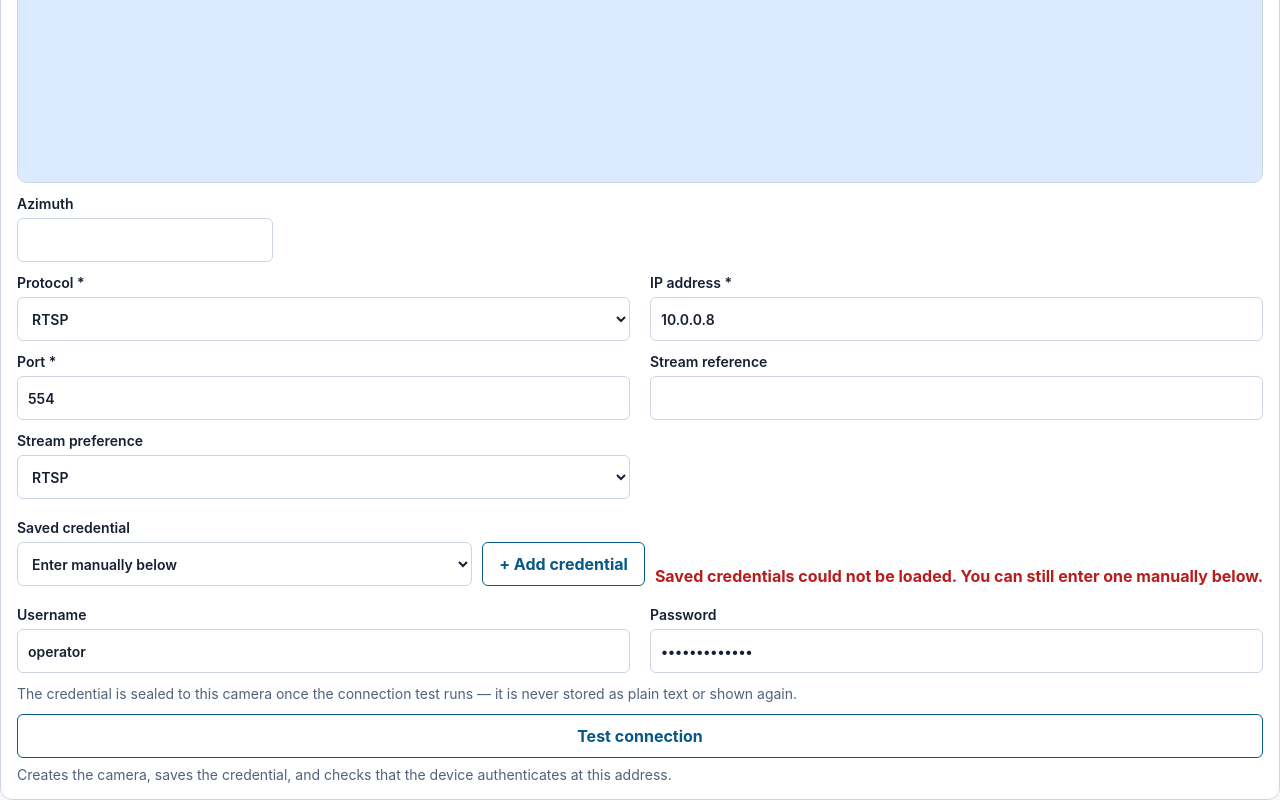
Test case: CameraForm › creates the camera, saves the credential, tests it, and advances on a successful authentication
(page scrolled)
Click the button "Test connection" at (640, 736), box x1=17 y1=714 x2=1263 y2=758
(page scrolled)
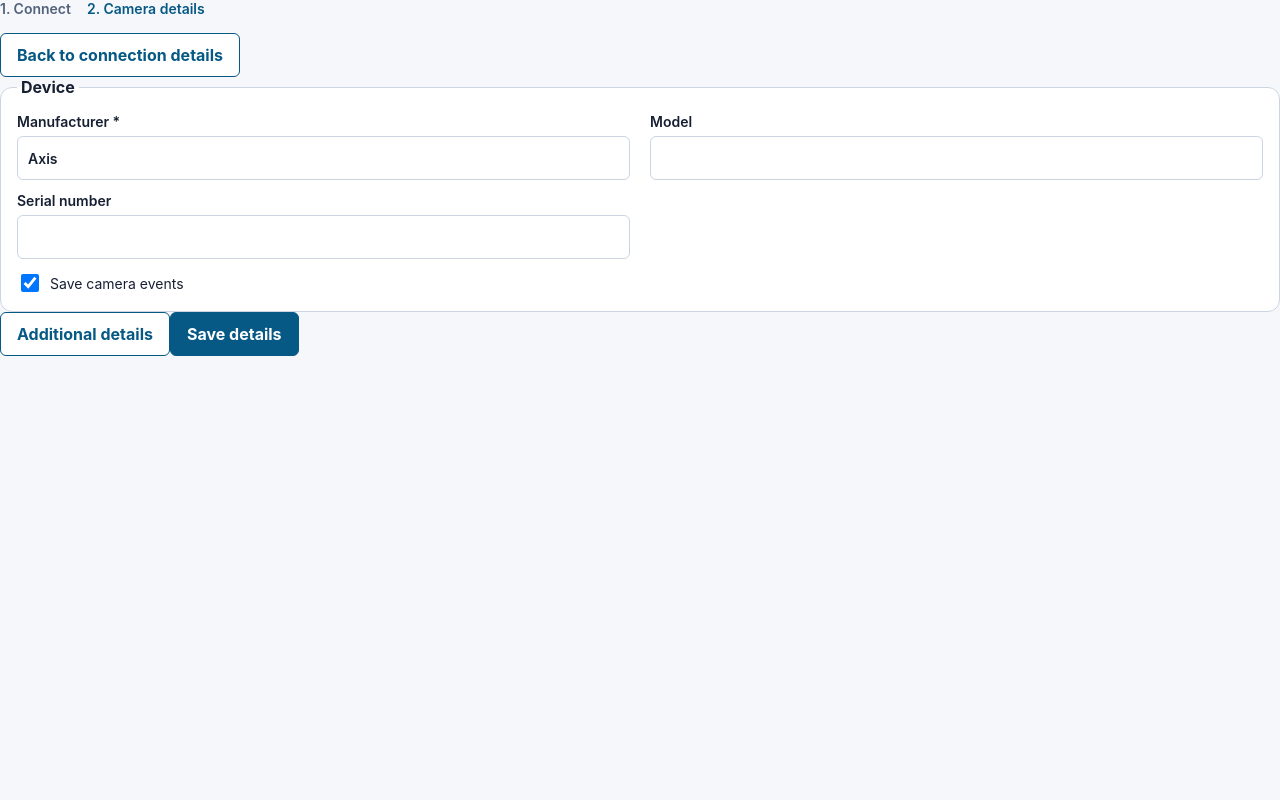
Expected: the field labelled "Manufacturer *" is shown, x1=17 y1=136 x2=630 y2=180
Expected: the button "Save details" is shown, x1=170 y1=312 x2=299 y2=356
